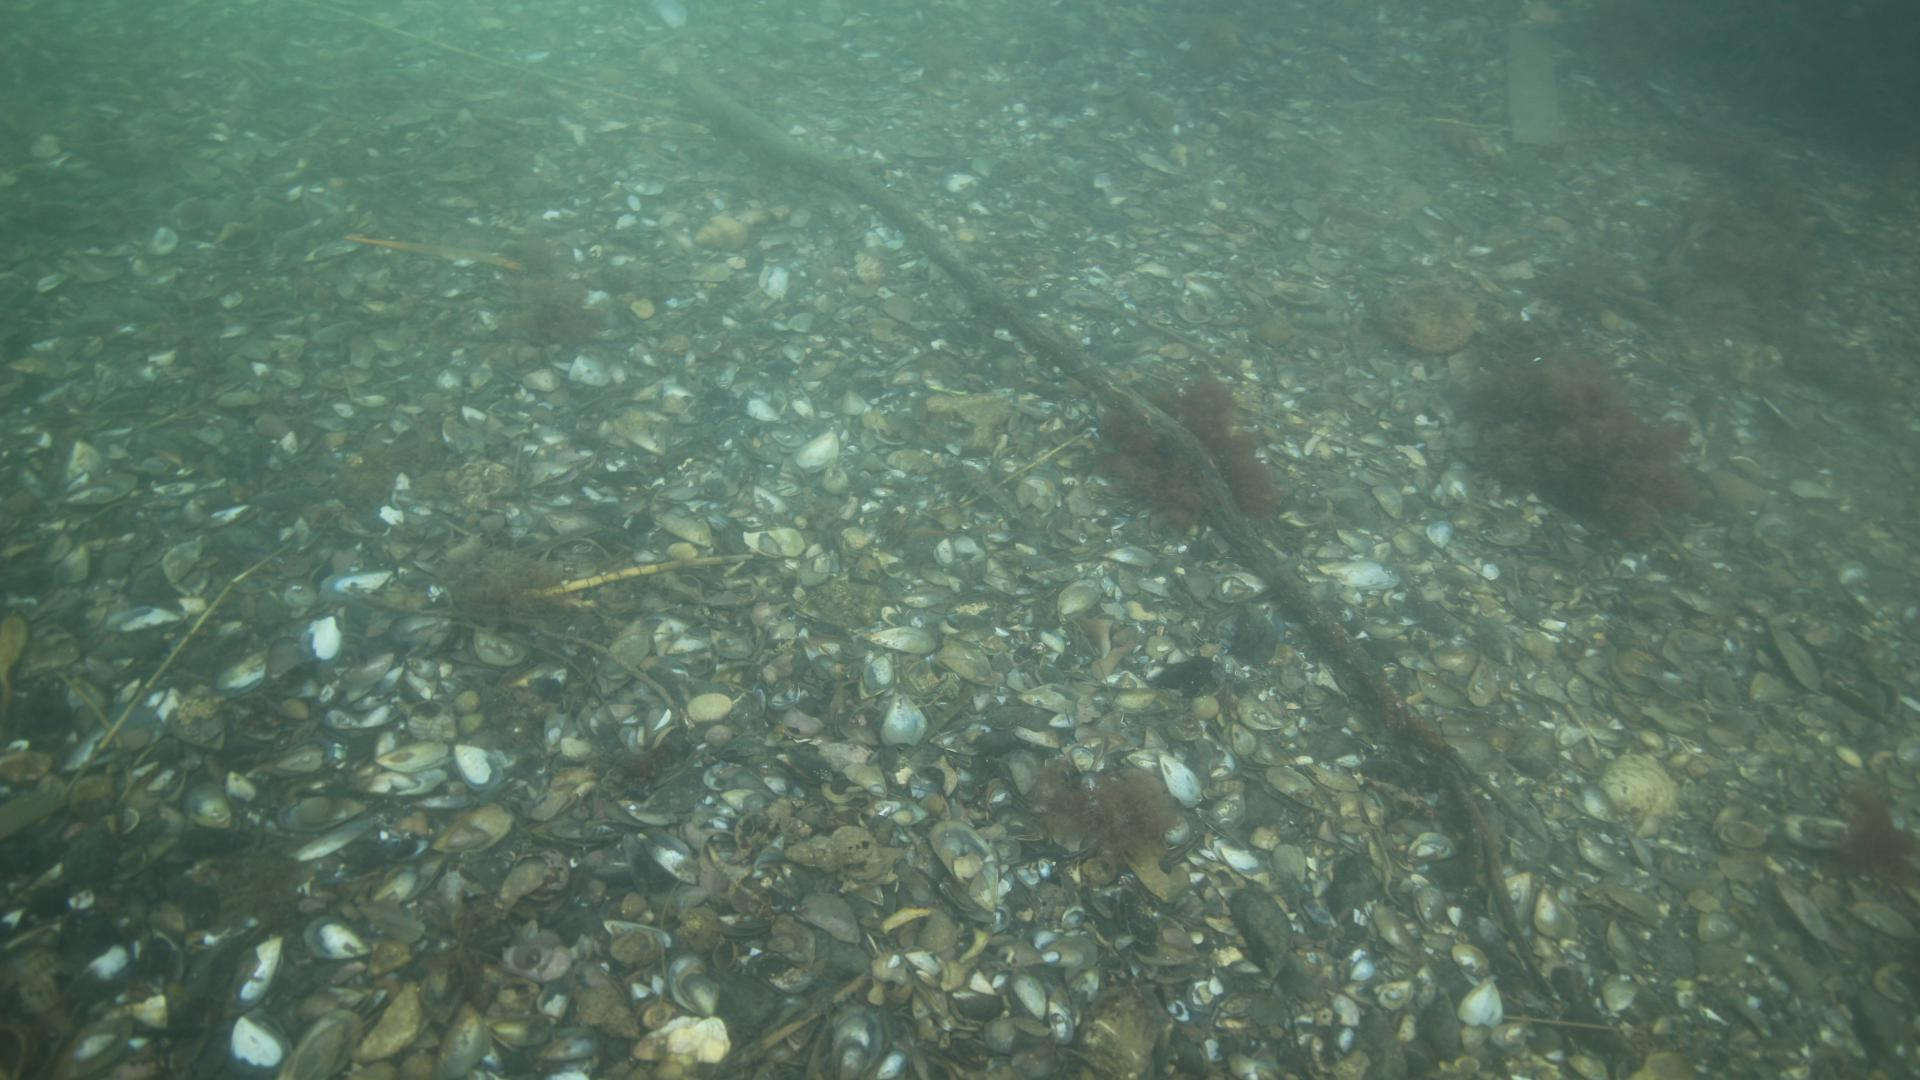wood: (688, 84, 1433, 750)
